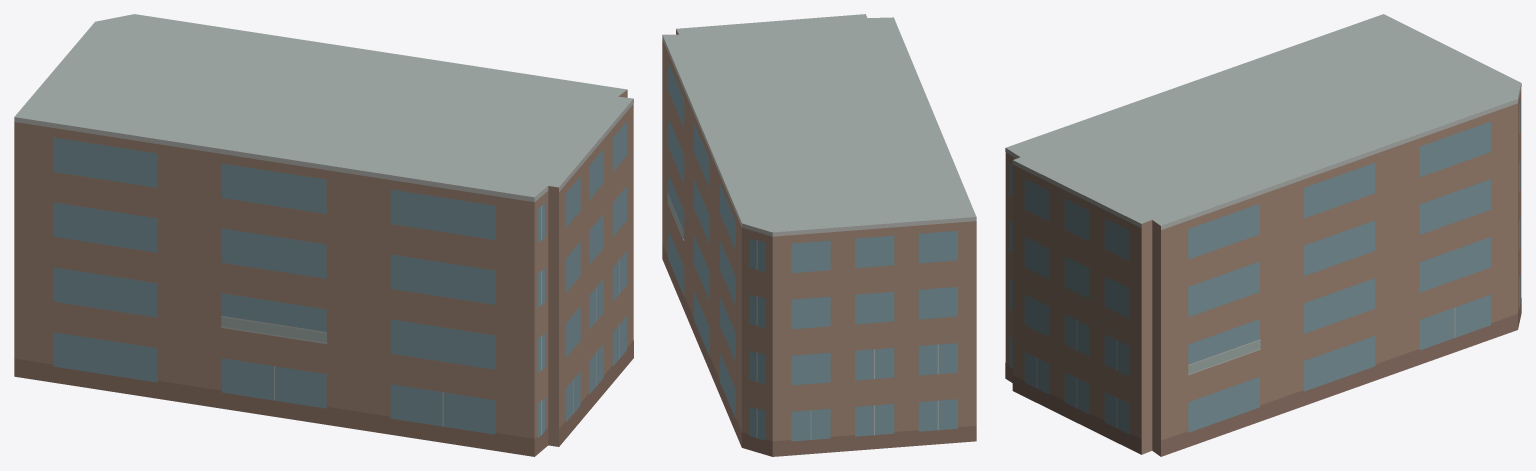
File: survey-upis-32777093.glb
The picture shows the model from 3 angles, left to right: view 1: azimuth 30°, elevation 25°; view 2: azimuth 150°, elevation 25°; view 3: azimuth 270°, elevation 25°; orthographic projection. The views are drawn at different scales.
Parts seen in each view (by area): view 1: survey-upis-32777093.tmp; view 2: survey-upis-32777093.tmp; view 3: survey-upis-32777093.tmp.
Boxes of the visible parts, bbox=[...] form: survey-upis-32777093.tmp: bbox=[14, 14, 633, 456]; survey-upis-32777093.tmp: bbox=[662, 14, 976, 456]; survey-upis-32777093.tmp: bbox=[1005, 14, 1521, 456].
Bounding box in the file's own units: 25.8 × 13.1 × 26.53.
